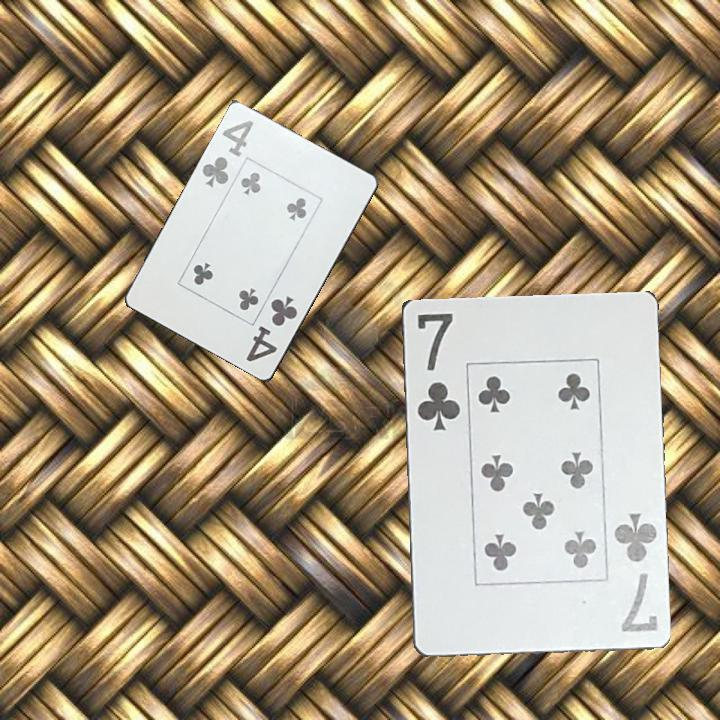4c: (198, 117, 257, 191), (243, 292, 301, 365)
7c: (609, 509, 660, 635), (413, 309, 463, 433)
